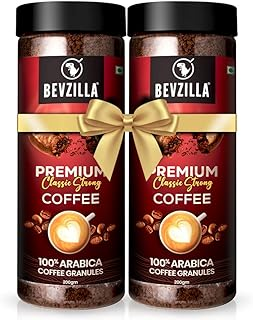Coffee: (11, 3, 239, 310)
